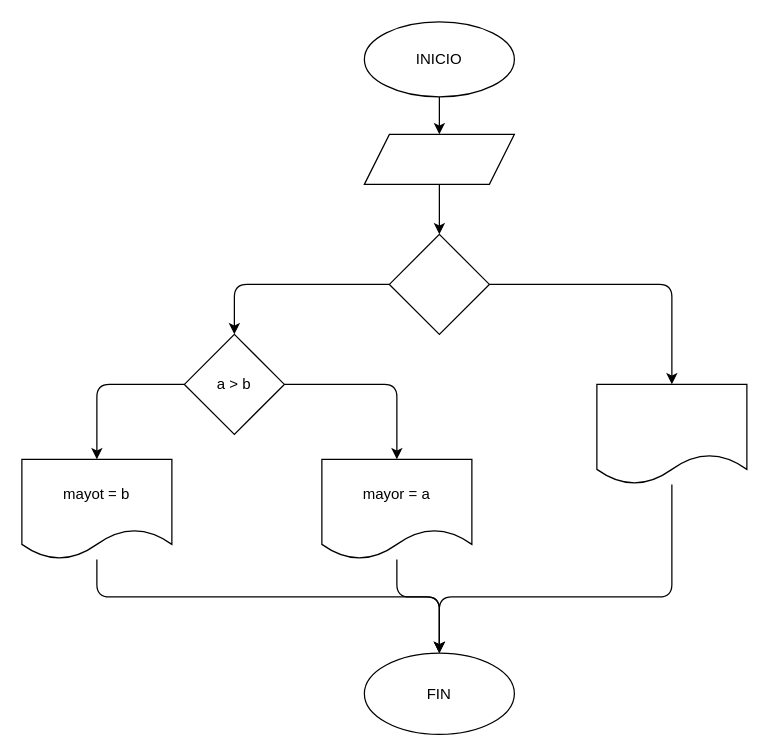
The diagram is 769 pixels wide and 756 high, and some of its shapes have lost their labels. The shapes that lost their labels are listed below. From the top down, each one's centre as x and y in pixels, then its label:
(438,158): a, b
(438,283): a == b
(671,433): res = "Son iguales"
